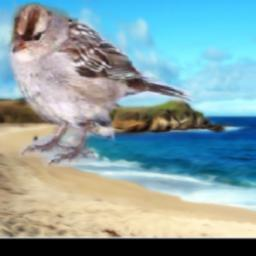Sparrow: (2, 3, 194, 168)
